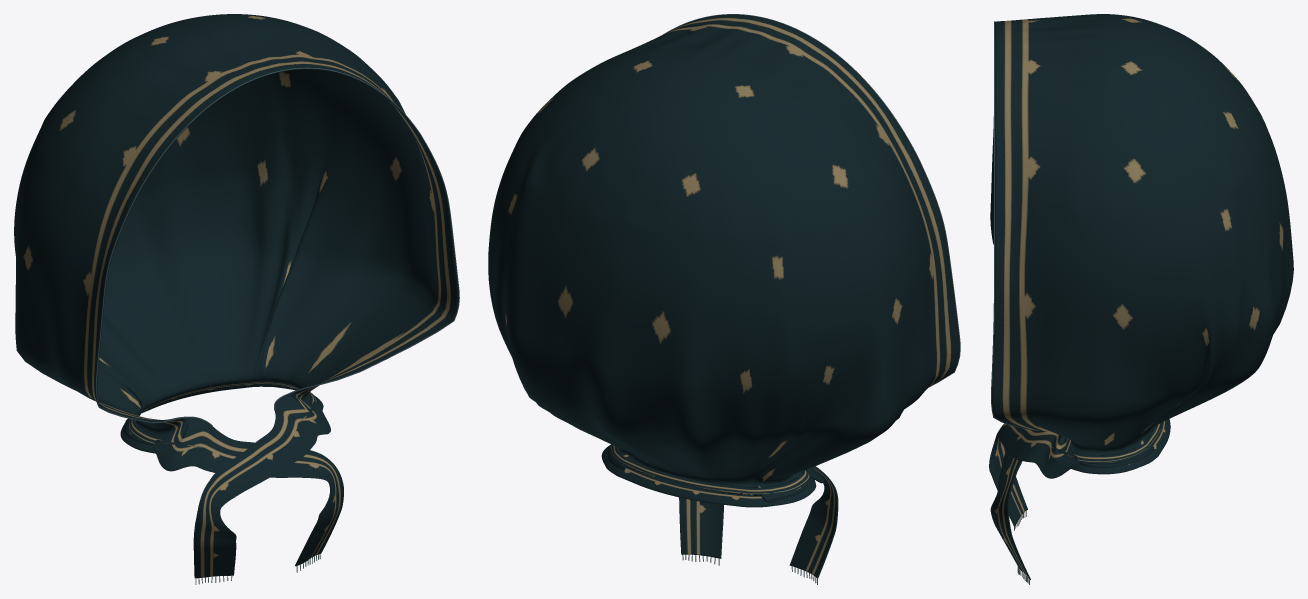
The model's file is Feminine-tank-pashmina242-headgear.glb.
The picture shows the model from 3 angles, left to right: view 1: azimuth 30°, elevation 25°; view 2: azimuth 150°, elevation 25°; view 3: azimuth 270°, elevation 25°; orthographic projection. The views are drawn at different scales.
Visible parts, largest first — view 1: 226 headgear / Headwear / continuous woven pashmina239, 226 headgear / Headwear / face edge239; view 2: 226 headgear / Headwear / continuous woven pashmina239, 226 headgear / Headwear / face edge239; view 3: 226 headgear / Headwear / continuous woven pashmina239, 226 headgear / Headwear / face edge239.
Part boxes in pixels (x1,y1,x2,y2): 226 headgear / Headwear / continuous woven pashmina239: (14,14,458,578); 226 headgear / Headwear / face edge239: (95,67,459,425); 226 headgear / Headwear / continuous woven pashmina239: (488,14,959,578); 226 headgear / Headwear / face edge239: (663,14,960,387); 226 headgear / Headwear / continuous woven pashmina239: (989,14,1293,579); 226 headgear / Headwear / face edge239: (991,21,1041,430).
Bounding box in the file's own units: 1.02 × 1.35 × 0.7148.
3 materials, 1 textured.
